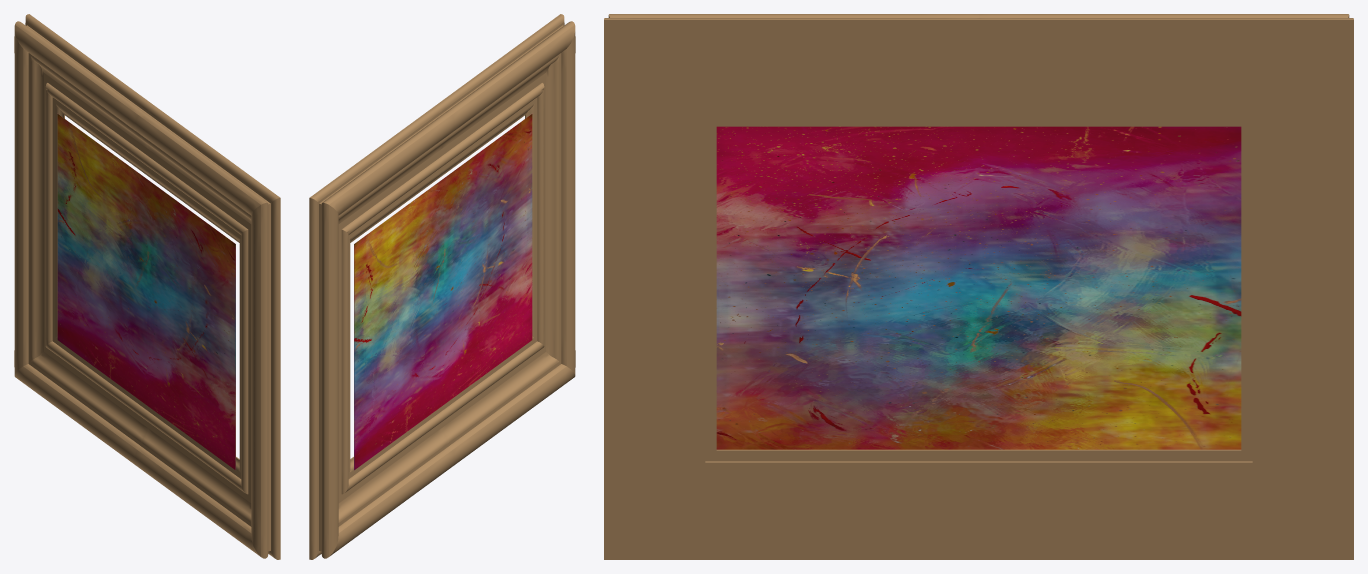
Rendered from peinture.glb.
3 renders of one model, left to right at view 1: azimuth 30°, elevation 25°; view 2: azimuth 150°, elevation 25°; view 3: azimuth 270°, elevation 25°, orthographic. The views are drawn at different scales.
Parts seen in each view (by area): view 1: オブジェクト_16, オブジェクト_15; view 2: オブジェクト_16, オブジェクト_15; view 3: オブジェクト_16, オブジェクト_15.
Boxes of the visible parts, bbox=[...] form: オブジェクト_16: bbox=[14, 14, 280, 559]; オブジェクト_15: bbox=[57, 114, 235, 470]; オブジェクト_16: bbox=[309, 14, 575, 559]; オブジェクト_15: bbox=[354, 114, 532, 470]; オブジェクト_16: bbox=[604, 14, 1353, 559]; オブジェクト_15: bbox=[716, 126, 1241, 449].
Bounding box in the file's own units: 0.5446 × 9.32 × 11.73.
Materials: 2 (1 with a texture image).
